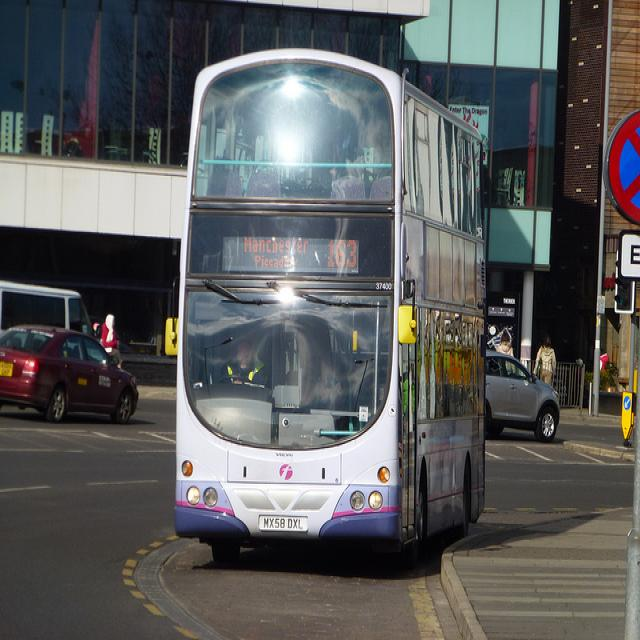Vehicle: (175, 49, 490, 581), (0, 324, 138, 423), (482, 354, 560, 438), (1, 284, 100, 339)
